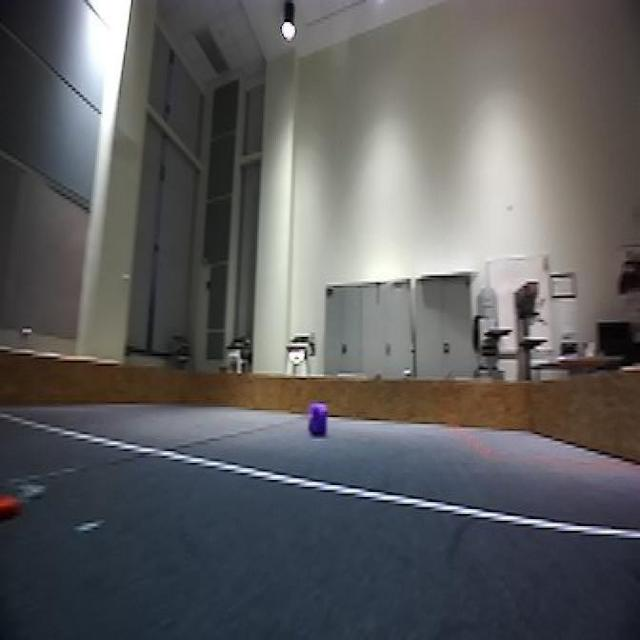frc_cube: (306, 400, 330, 439)
